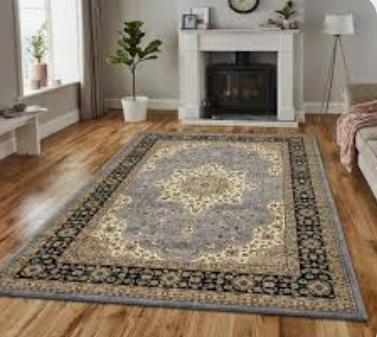carpet: (0, 130, 368, 320)
